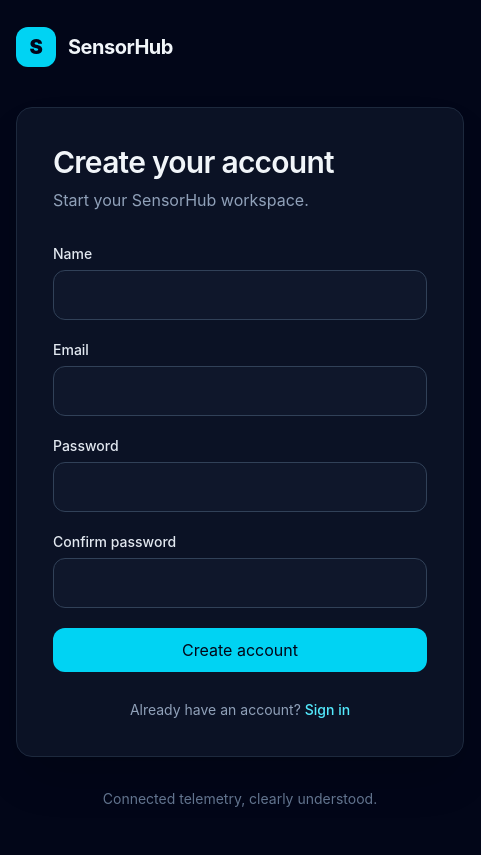
Scenario: SPA authentication › shows Laravel field validation errors during registration
In the field labelled "Name": coordinates (240, 295) [53, 270, 427, 320], type "Alex"
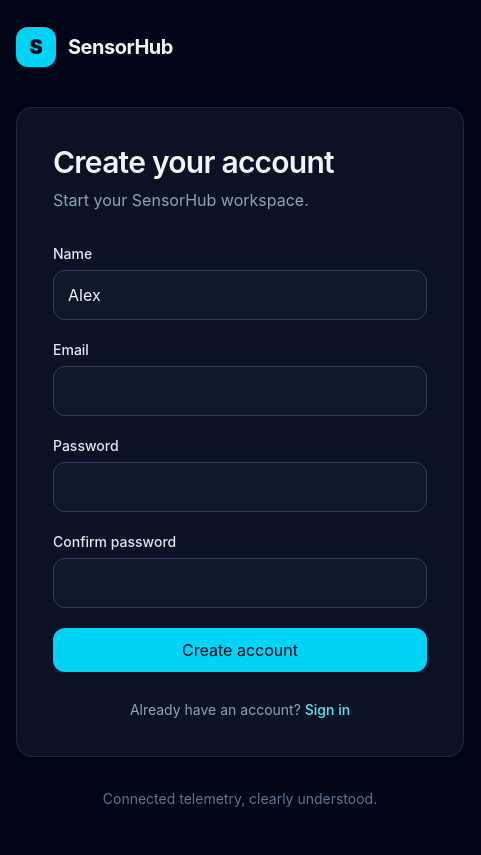
In the field labelled "Email": coordinates (240, 391) [53, 366, 427, 416], type "alex@example.test"
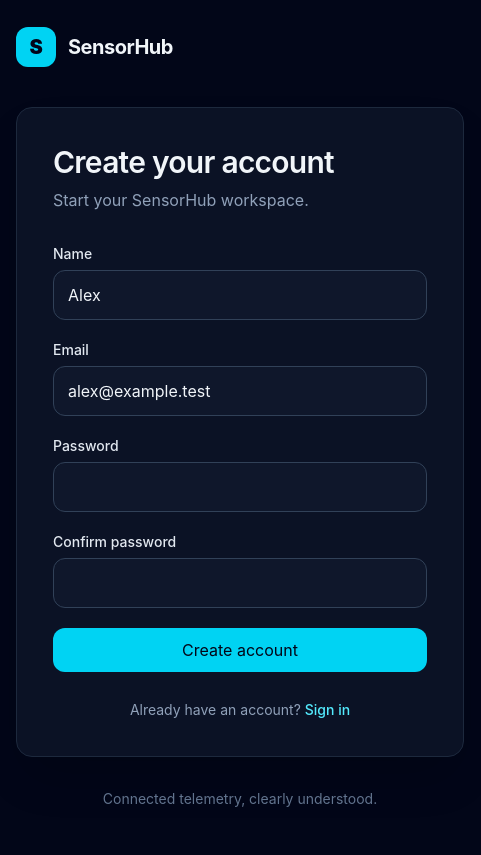
In the password field labelled "Password": coordinates (240, 487) [53, 462, 427, 512], type "password123"
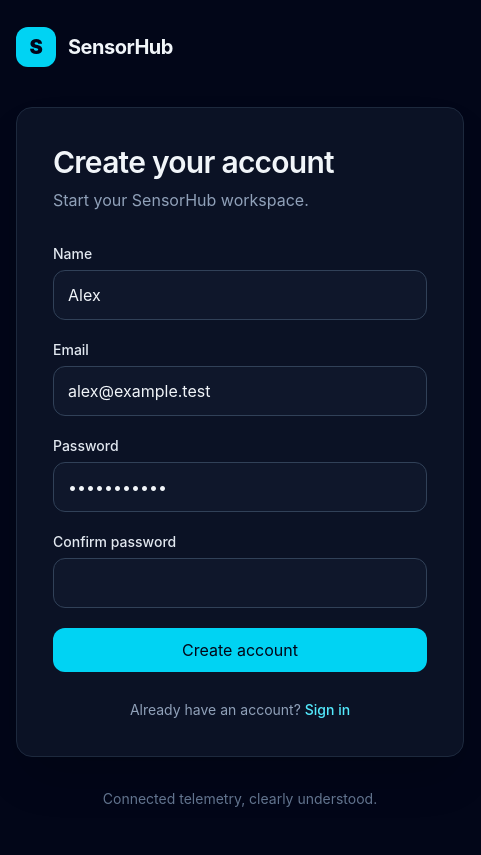
In the password field labelled "Confirm password": coordinates (240, 583) [53, 558, 427, 608], type "password123"
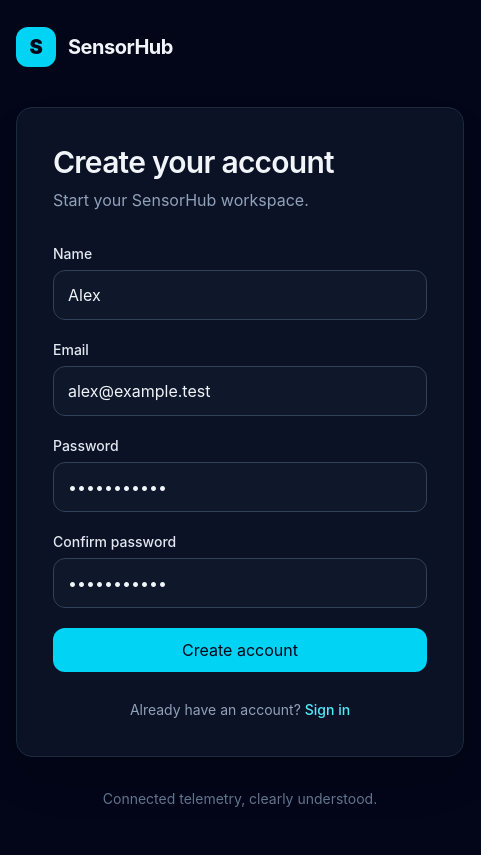
Click the button "Create account": coordinates (240, 650) [53, 628, 427, 672]
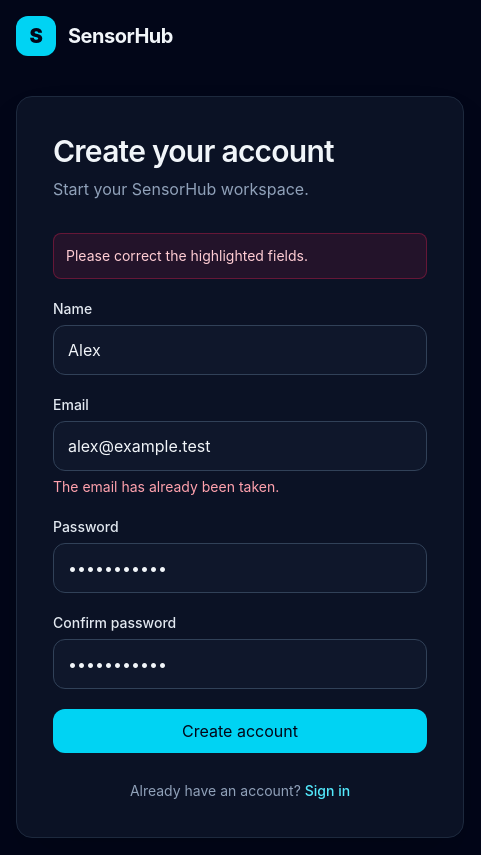
Check: the text "The email has already been taken." is shown, box [53, 478, 279, 495]
